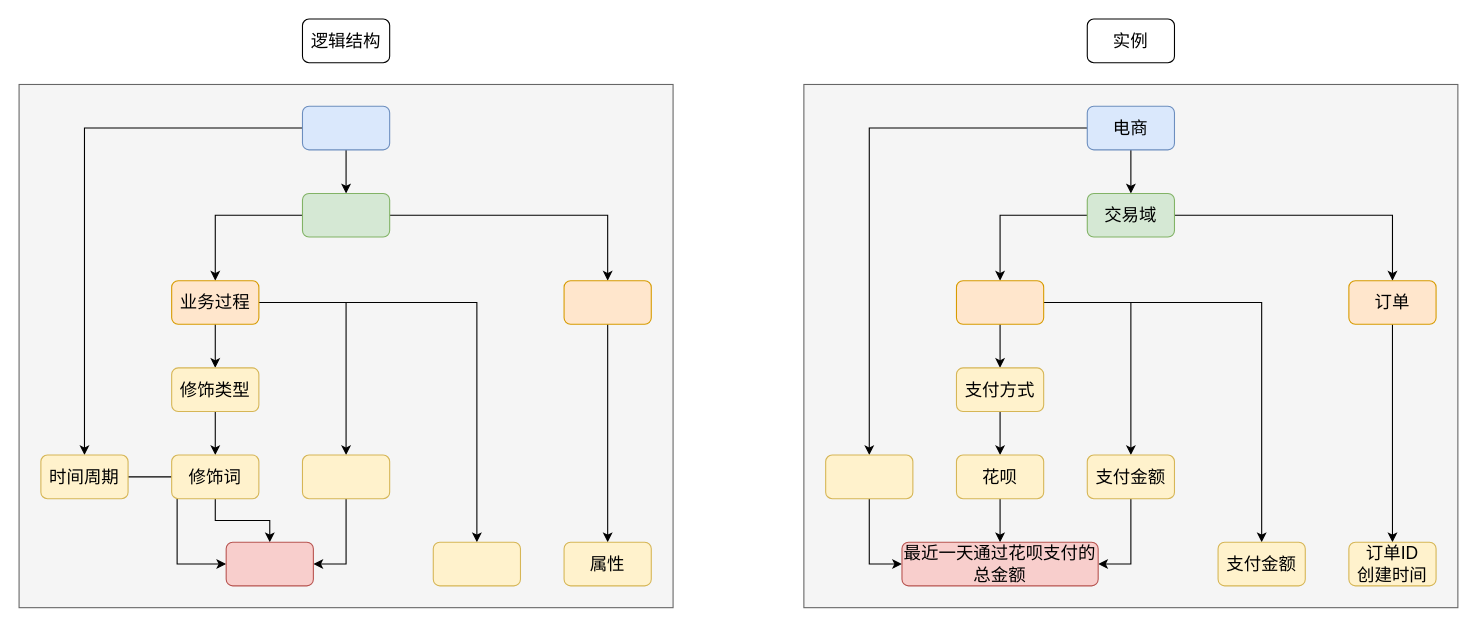
This 1477x627 diagram has some shape labels left out. The centre of each missing label's shape, as x and y in pixels:
"业务板块" goes at point (345, 127).
"原子指标" goes at point (345, 476).
"度量" goes at point (476, 563).
"支付" goes at point (999, 302).
"数据域" goes at point (345, 214).
"最近一天" goes at point (869, 476).
"派生指标" goes at point (269, 563).
"维度" goes at point (607, 302).
